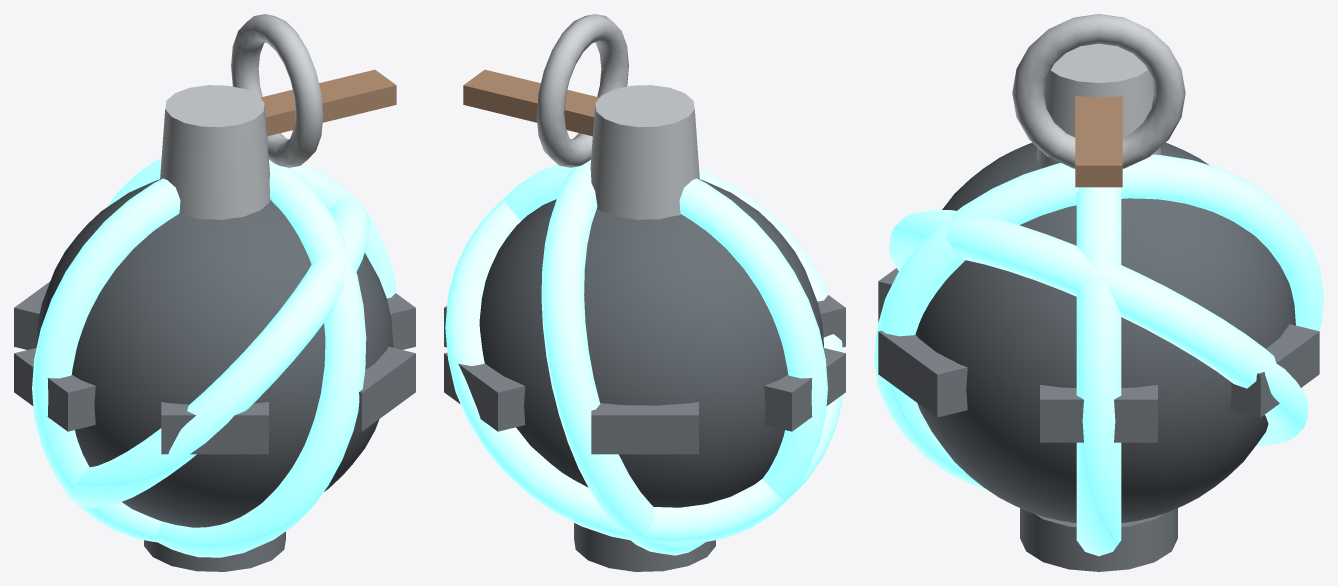
File: emp_pulse_grenade.glb
3 views of the same model, side by side, from view 1: azimuth 30°, elevation 25°; view 2: azimuth 150°, elevation 25°; view 3: azimuth 270°, elevation 25° (orthographic). The views are drawn at different scales.
Parts seen in each view (by area): view 1: emp_pulse_grenade; view 2: emp_pulse_grenade; view 3: emp_pulse_grenade.
Boxes of the visible parts, left/top/right/bottom form: emp_pulse_grenade: left=14, top=14, right=415, bottom=571; emp_pulse_grenade: left=444, top=14, right=845, bottom=571; emp_pulse_grenade: left=874, top=14, right=1323, bottom=571.
Size of the model in its own units: 0.116 by 0.156 by 0.1141.
